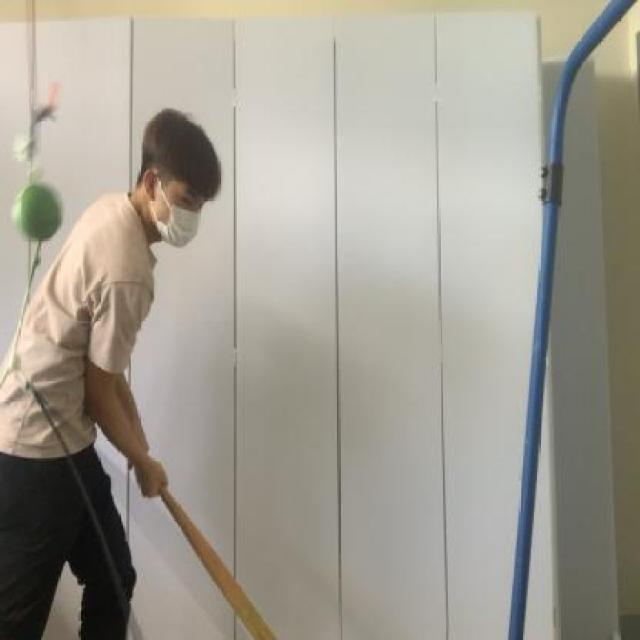baseball: (5, 173, 69, 241)
